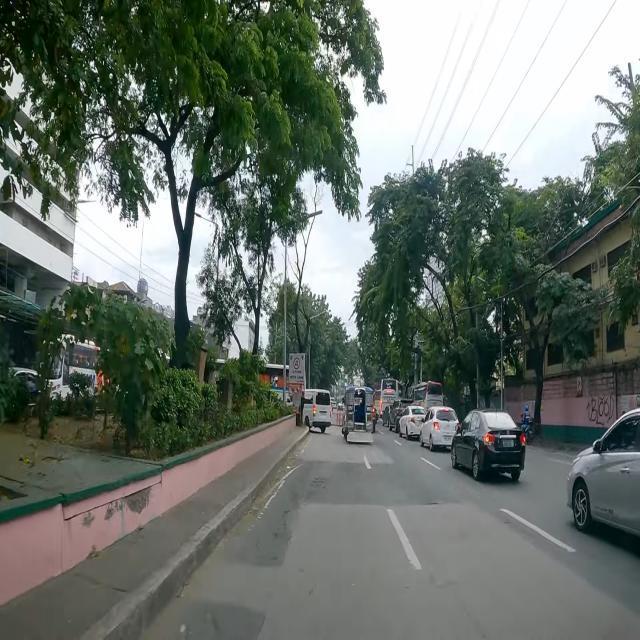bus: (212, 358, 306, 411), (38, 336, 106, 409), (411, 382, 444, 413), (380, 378, 406, 416), (374, 390, 382, 418)
car: (564, 404, 640, 560), (451, 407, 526, 482), (284, 389, 332, 433), (418, 406, 459, 453), (398, 405, 428, 442)
jeepney: (341, 386, 374, 444)
motorcycle: (520, 404, 534, 445)
